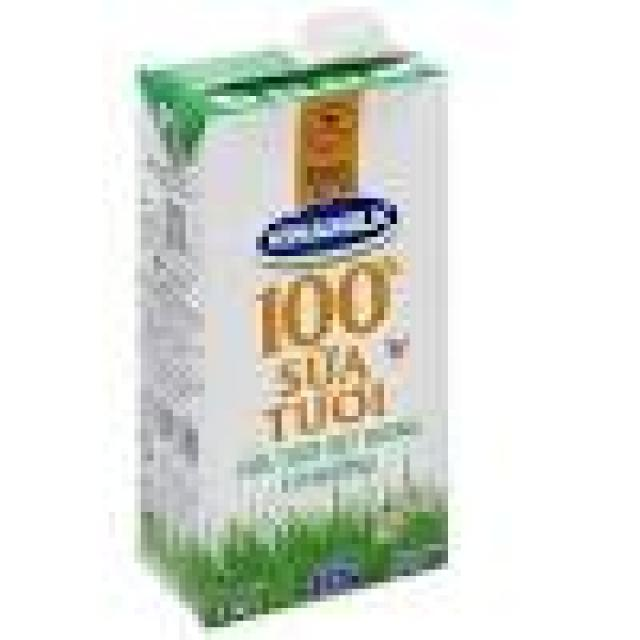non_white_jug: (86, 3, 464, 630)
